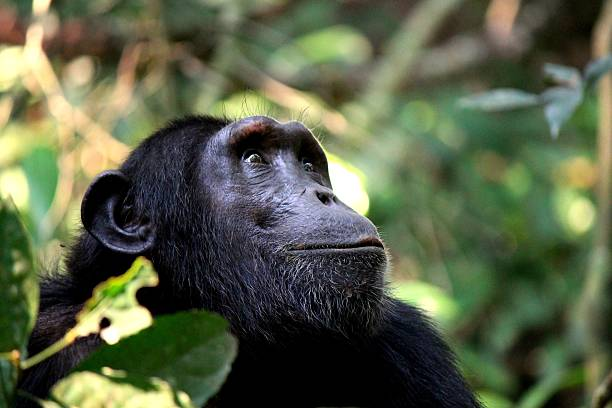chimpanzee: (50, 89, 411, 351)
